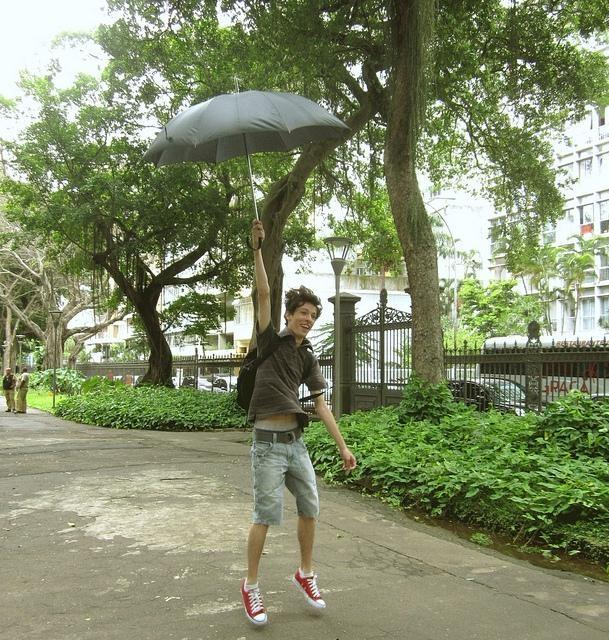bus: (476, 334, 608, 404)
car: (448, 378, 527, 416), (584, 394, 609, 406), (213, 377, 229, 392)
